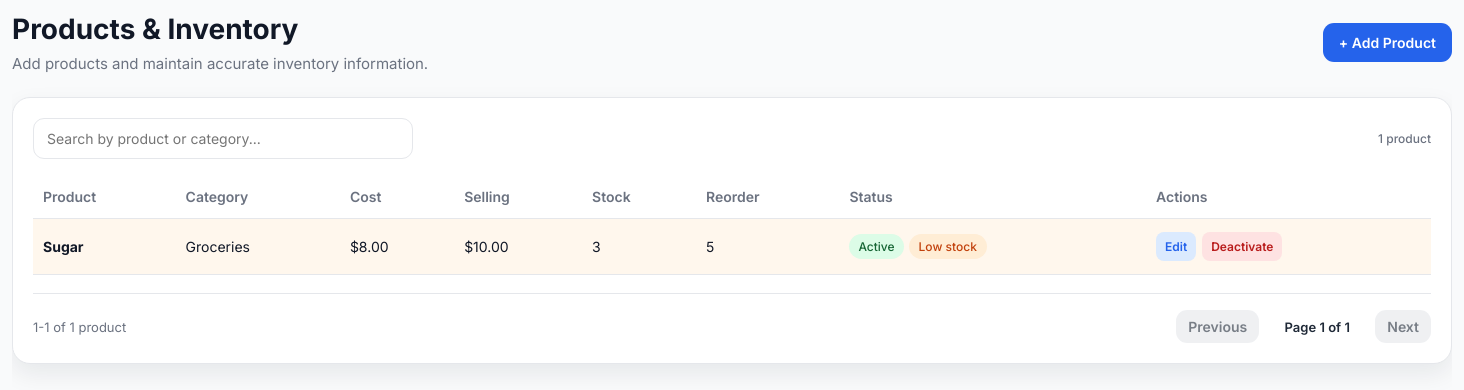
Test case: ProductManagement › deactivates a product through the status endpoint
Expected: the text "Sugar" is shown, [43, 238, 84, 255]
Click the button "Deactivate" at (1242, 246), box [1202, 232, 1282, 261]
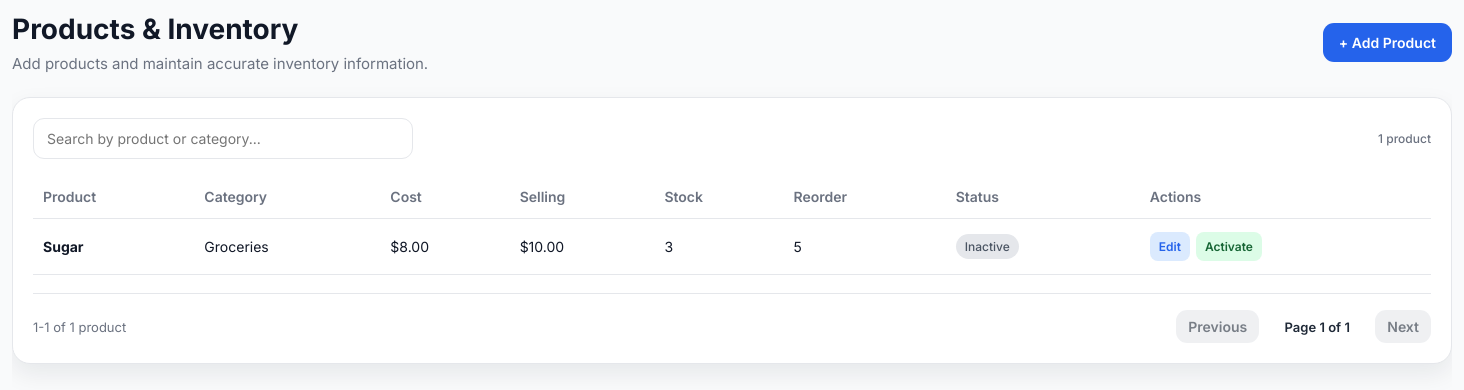
Expected: the text "Inactive" is shown, [956, 234, 1019, 259]
